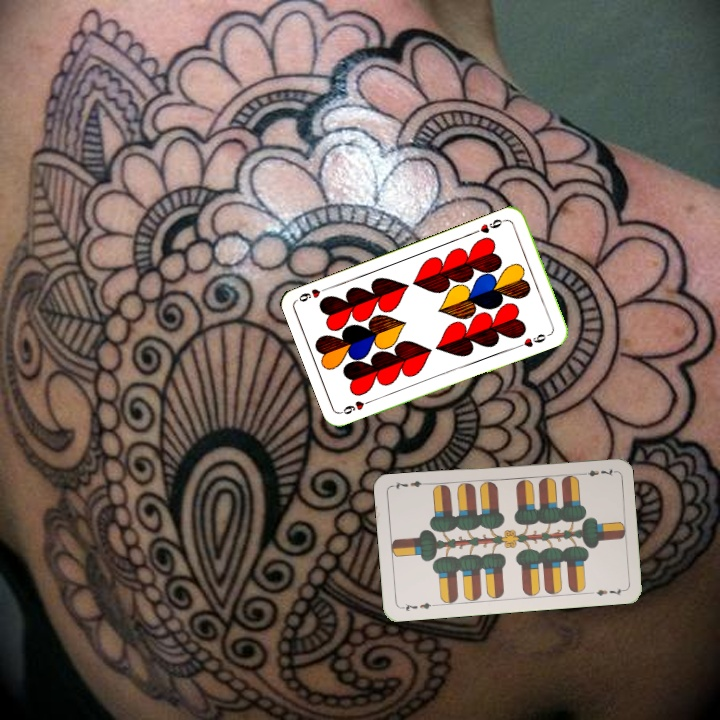E7: (398, 598, 438, 614), (576, 465, 617, 479)
H9: (337, 395, 376, 417), (470, 215, 509, 236)
